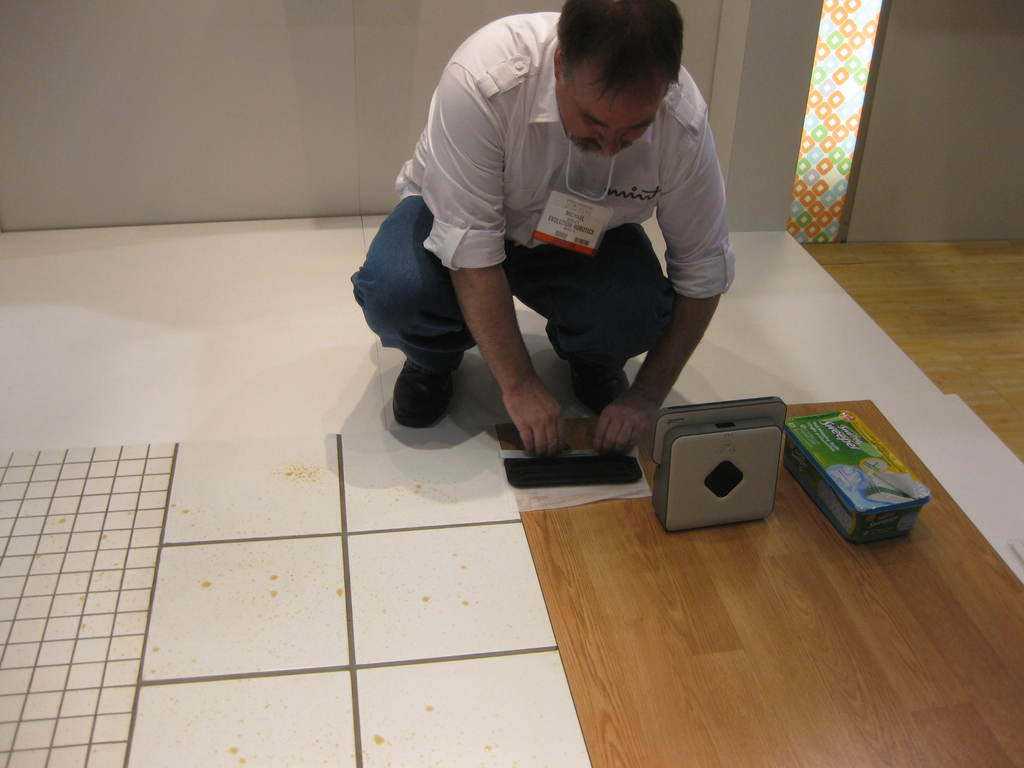Person: (350, 0, 735, 457)
